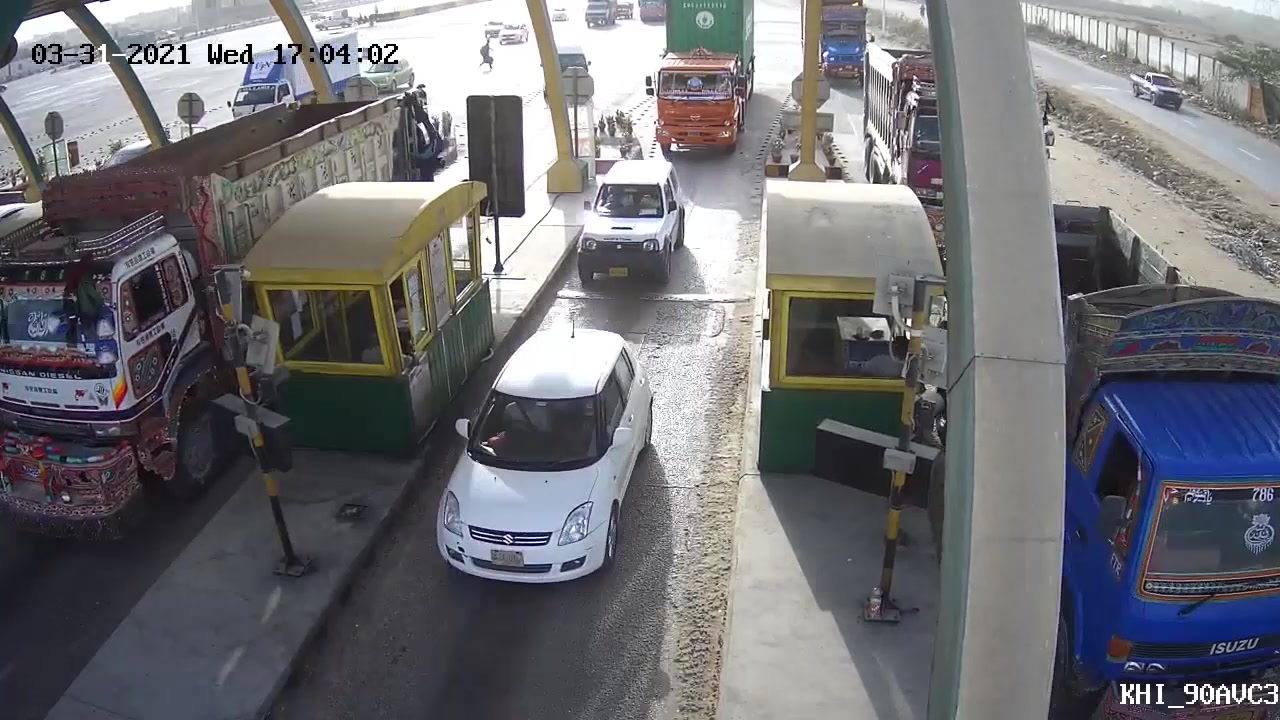F1: (420, 322, 660, 609), (574, 152, 689, 296)
